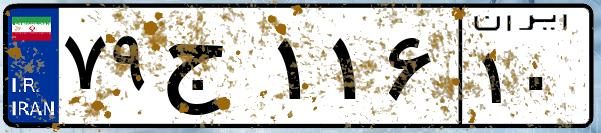0: (525, 38, 570, 115)
1: (270, 28, 330, 110), (330, 28, 385, 110), (475, 38, 525, 113)
6: (385, 28, 445, 110)
7: (57, 26, 110, 100)
9: (110, 28, 158, 98)
ج: (158, 20, 270, 120)
